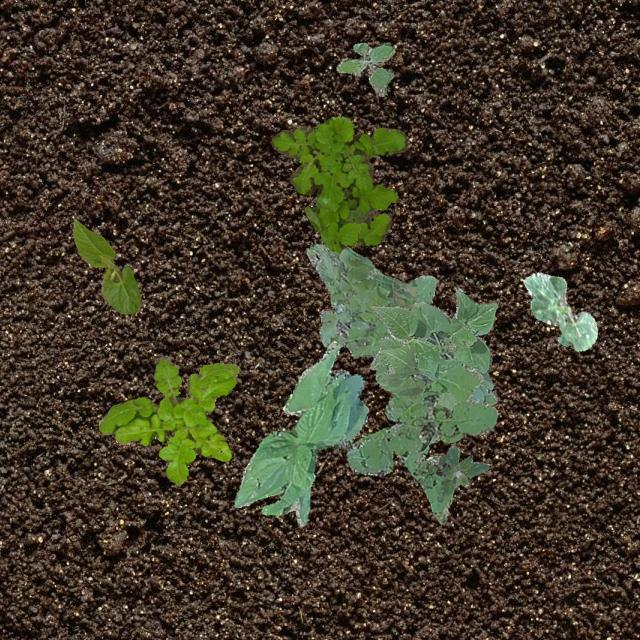crop: (232, 340, 368, 526), (368, 286, 496, 409), (72, 218, 140, 312), (522, 272, 596, 350)
weed: (306, 243, 497, 442), (346, 362, 496, 522), (269, 115, 406, 252), (98, 356, 238, 484), (427, 444, 488, 501), (336, 41, 392, 96)
